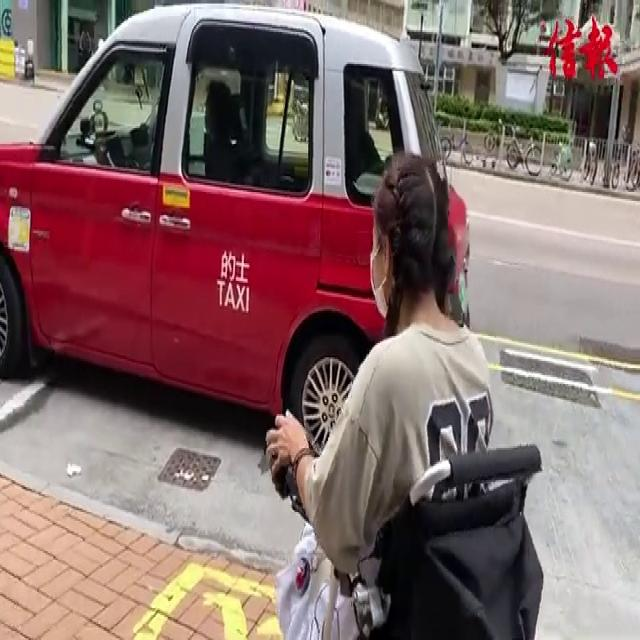wheelchairs: (261, 368, 559, 640)
